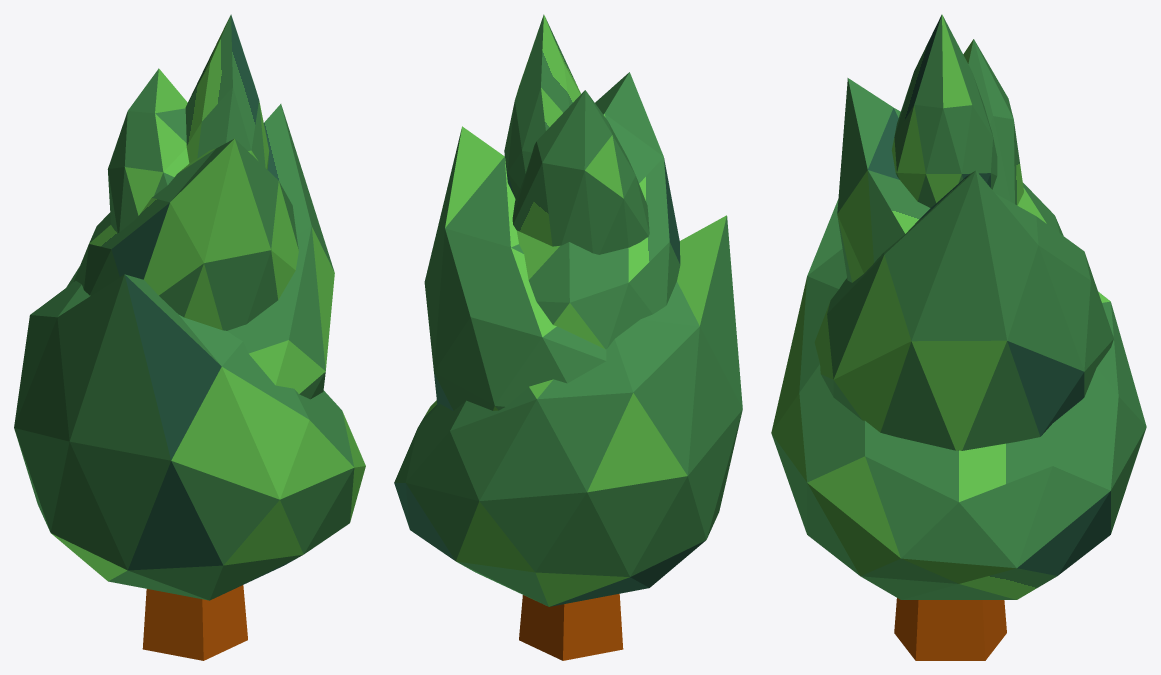
Rendered from Tree_07.fbx.
3 views of the same model, side by side, from view 1: azimuth 30°, elevation 25°; view 2: azimuth 150°, elevation 25°; view 3: azimuth 270°, elevation 25° (orthographic). The views are drawn at different scales.
Parts seen in each view (by area): view 1: Tree_07; view 2: Tree_07; view 3: Tree_07.
Part boxes in pixels (x1,y1,x2,y2): Tree_07: (14,14,365,660); Tree_07: (394,14,742,660); Tree_07: (771,14,1146,660).
Size of the model in its own units: 360 by 717 by 378.
